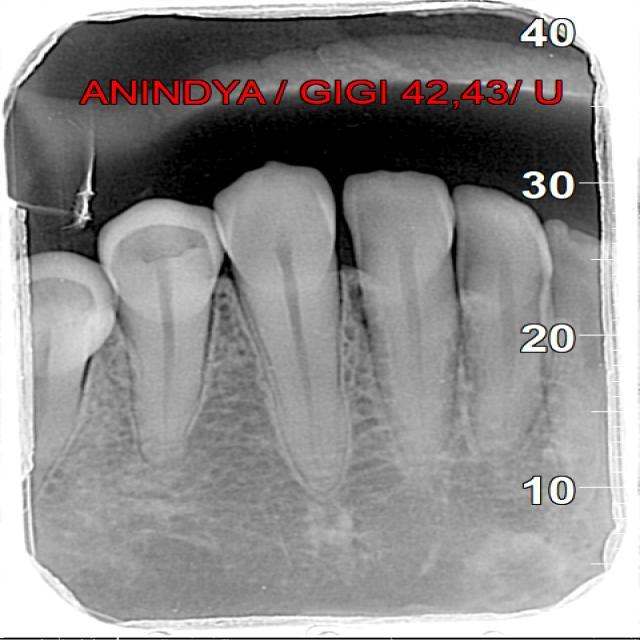individual-tooth-8tto: (200, 160, 347, 500), (341, 167, 464, 467), (91, 204, 229, 462)
